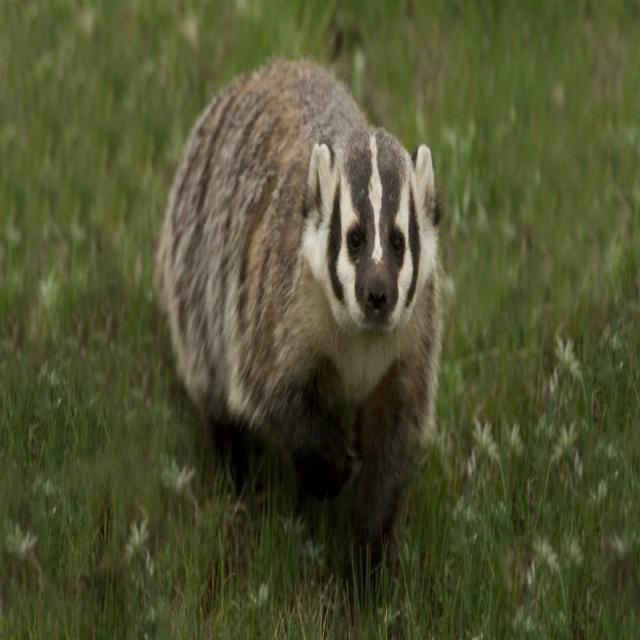badger: (156, 59, 442, 561)
